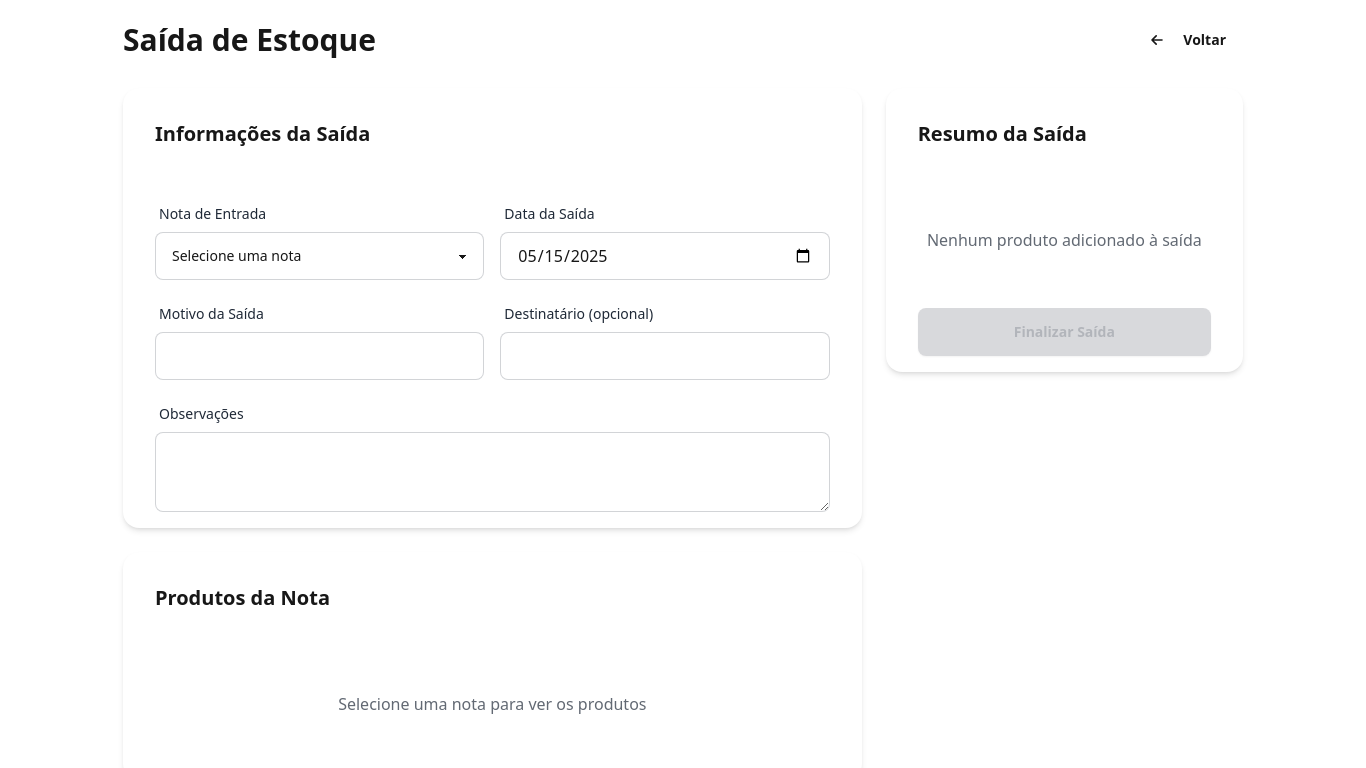
Componente SaidaEstoque › Seleção de Produtos e Manuseio de Quantidade › Ao clicar em "Dar Saída" com quantidade válida, deve adicionar o produto a itensSaida
The image size is (1366, 768).
// Seleciona uma nota
Select "001 - Fornecedor Teste" in the dropdown labelled "Nota de Entrada" at (320, 256), box [155,232,484,280]
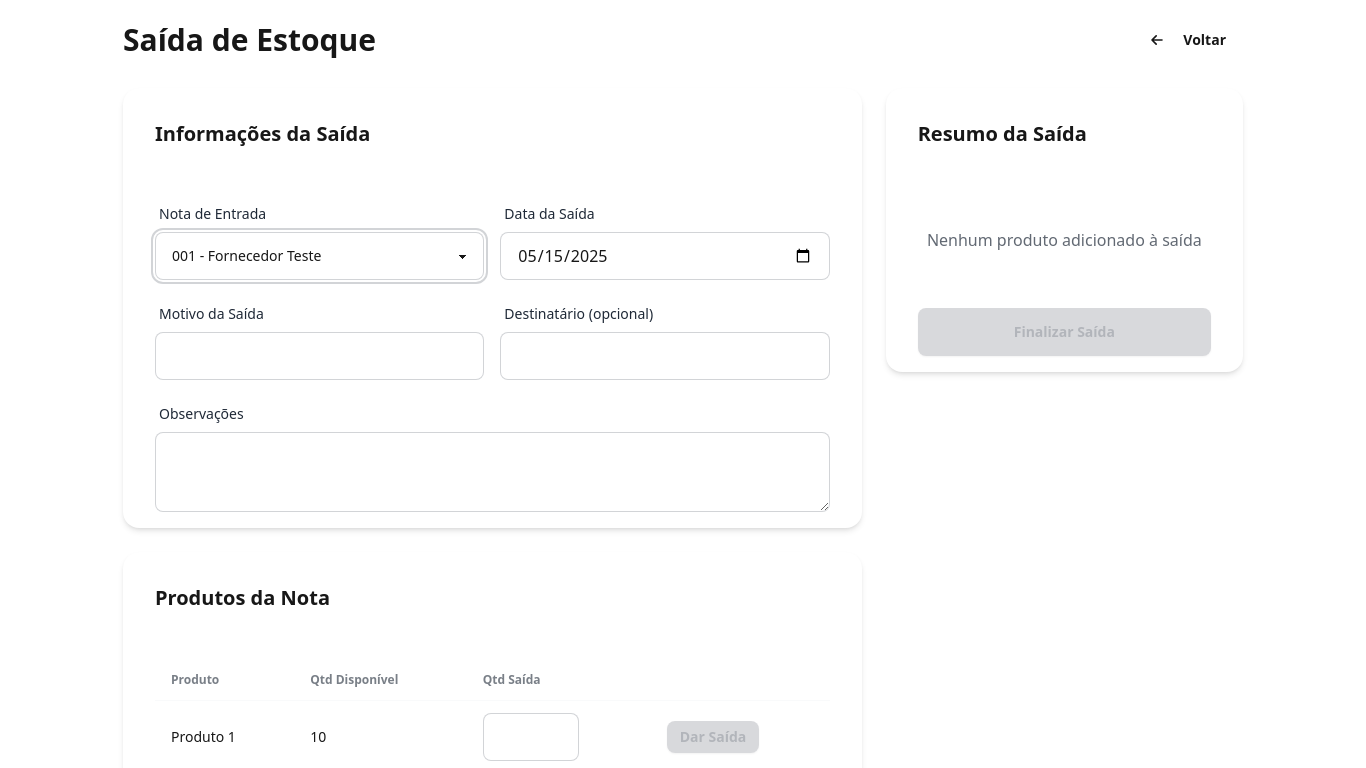
// Altera a quantidade
Type "5" into the number field at (531, 737), box [483,713,579,761]
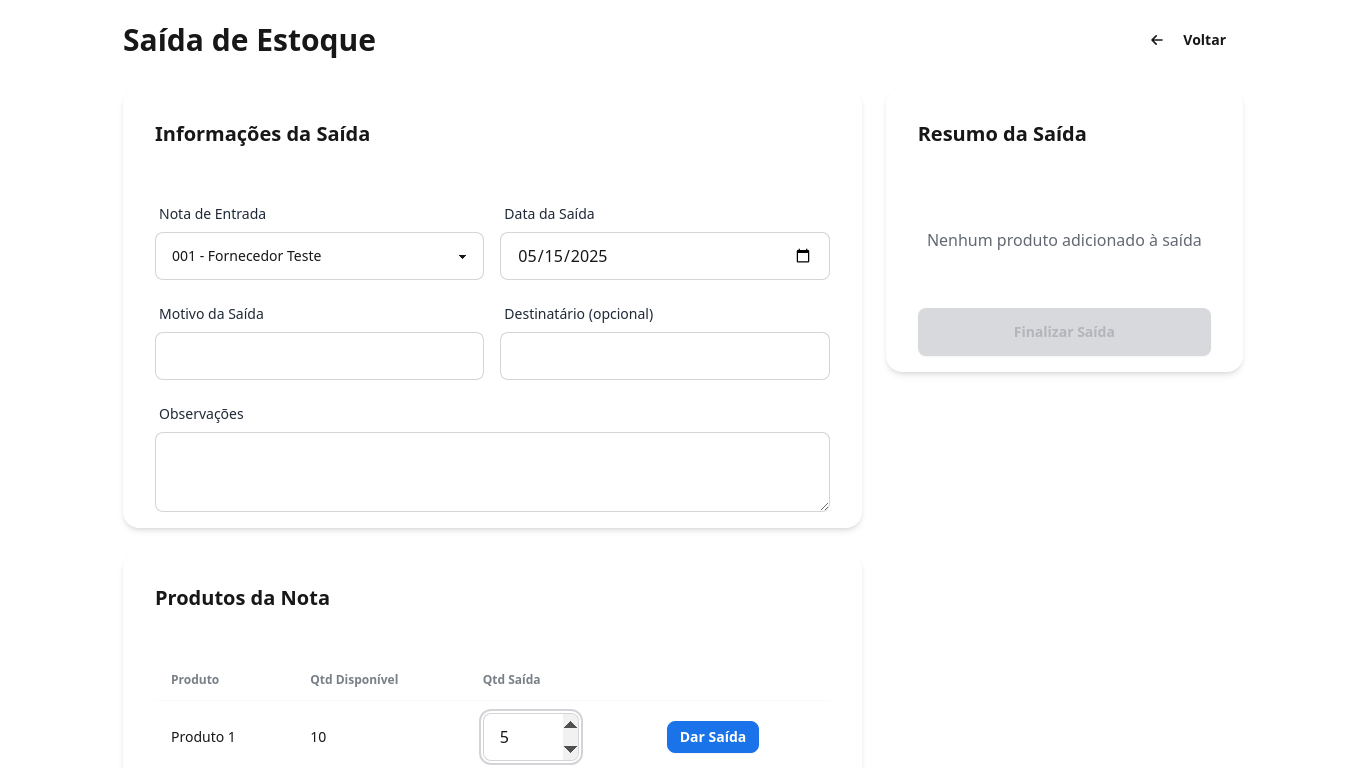
// Clica em "Dar Saída"
Click the button with test id "dar-saida-p1" at (713, 737), box [667,721,759,753]
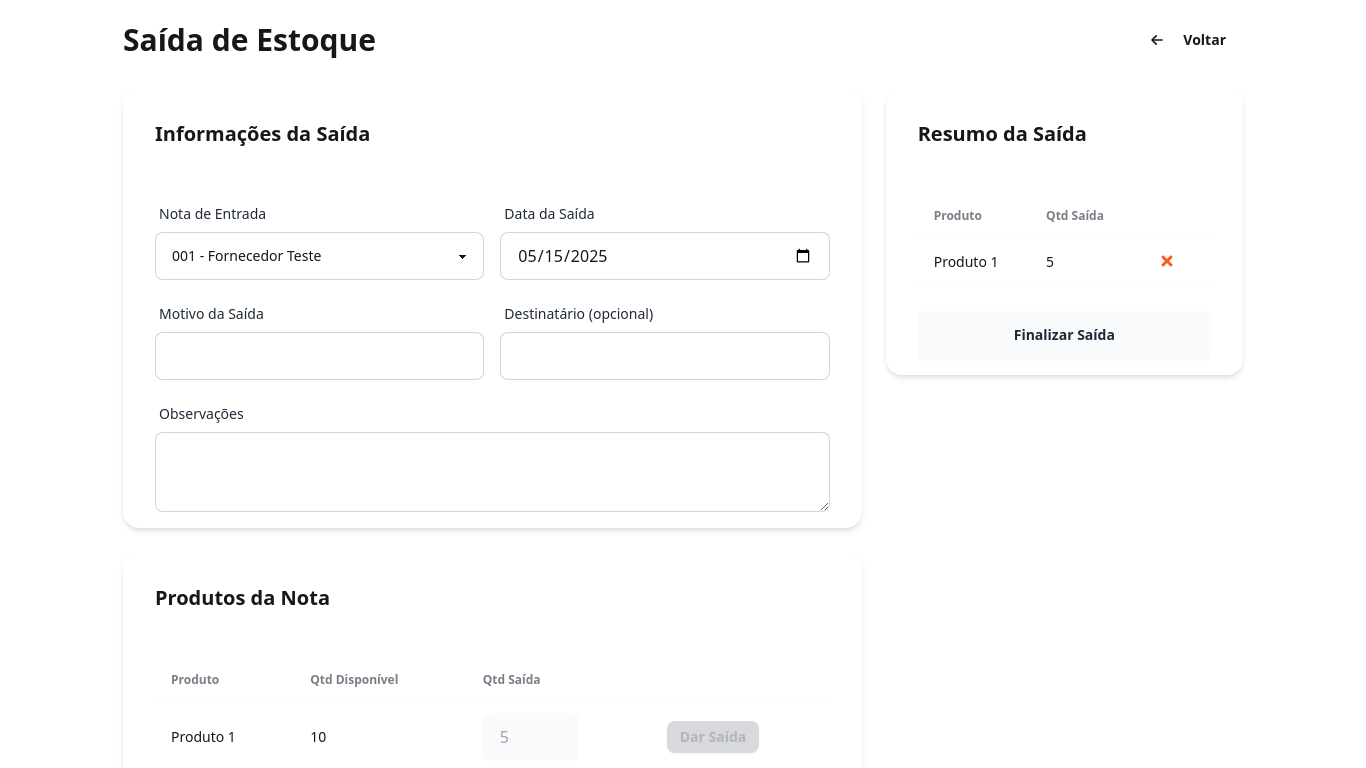
Now the text "Produto 1" next to "10" is shown, box [171,727,236,746]
Now the button with test id "dar-saida-p1" is disabled, box [667,721,759,753]
Now the number field is disabled, box [483,713,579,761]
